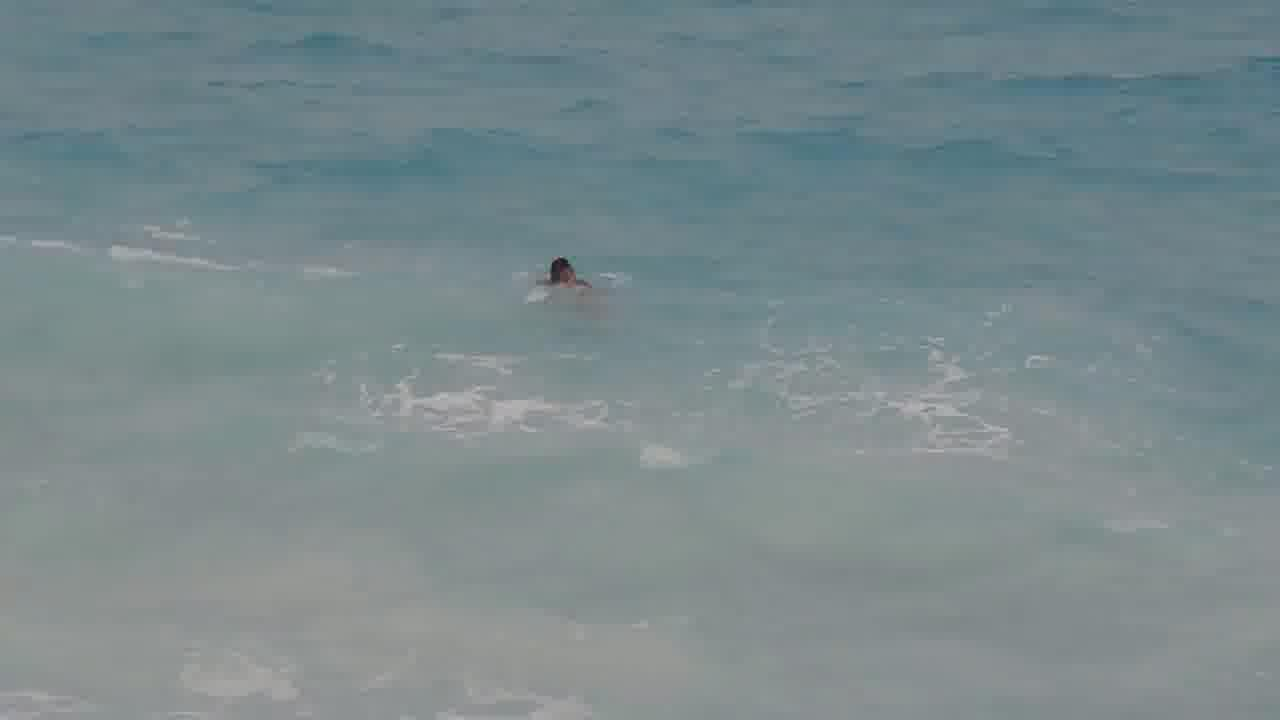human: (531, 249, 598, 290)
